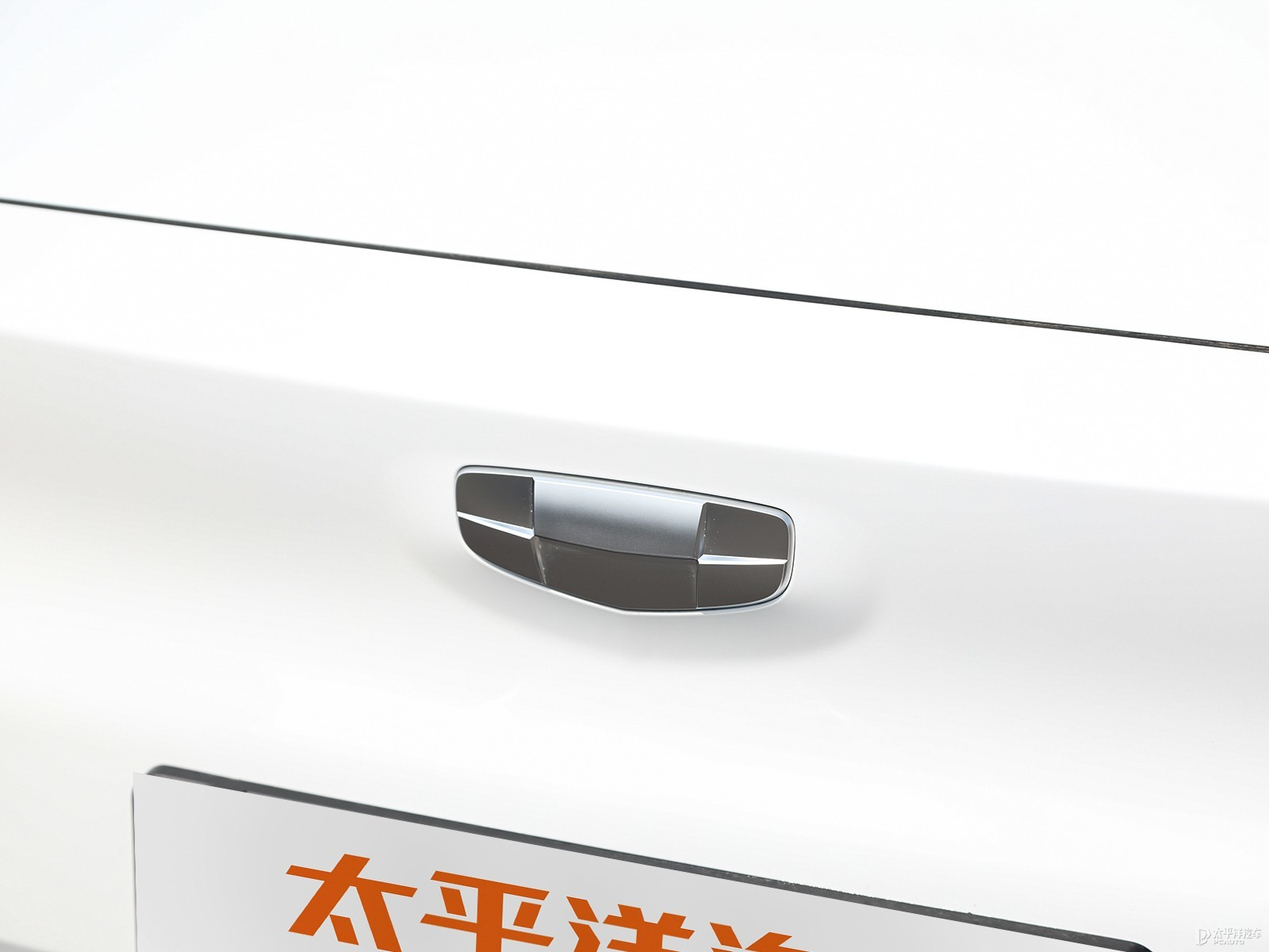GEOMETRY: (455, 471, 789, 611)
